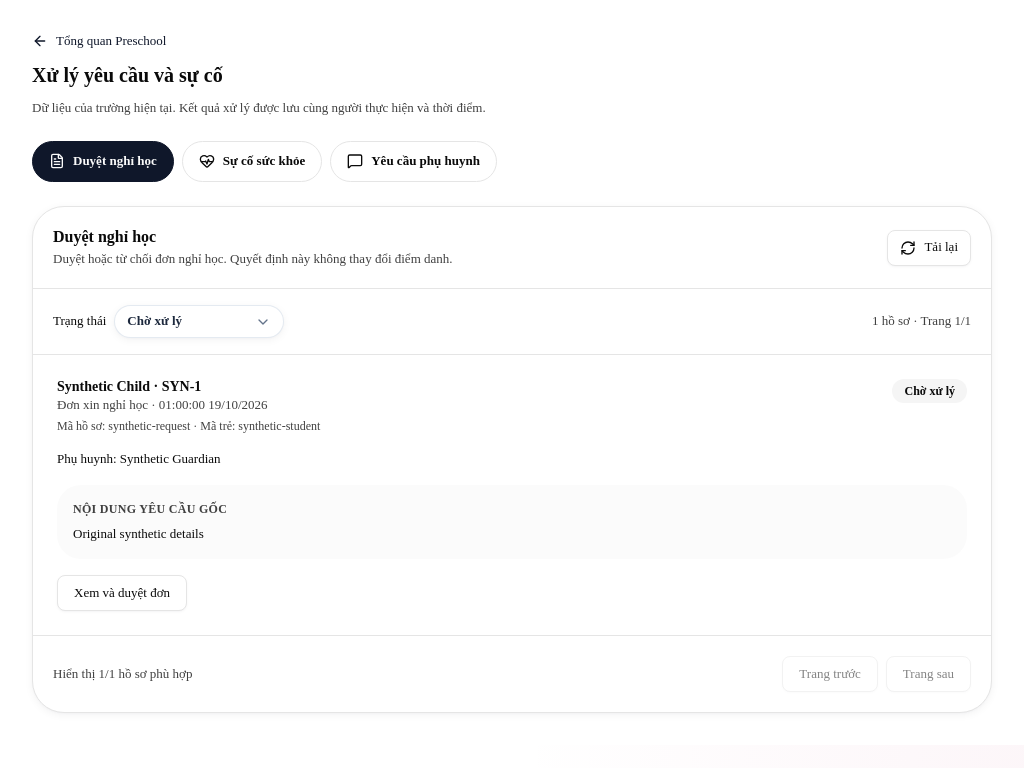
it: does not report success for a failed readback or erase drafts
The width and height of the screenshot is (1024, 768).
Click the button "Xem và duyệt đơn". click: (122, 594)
box: [57, 576, 187, 612]
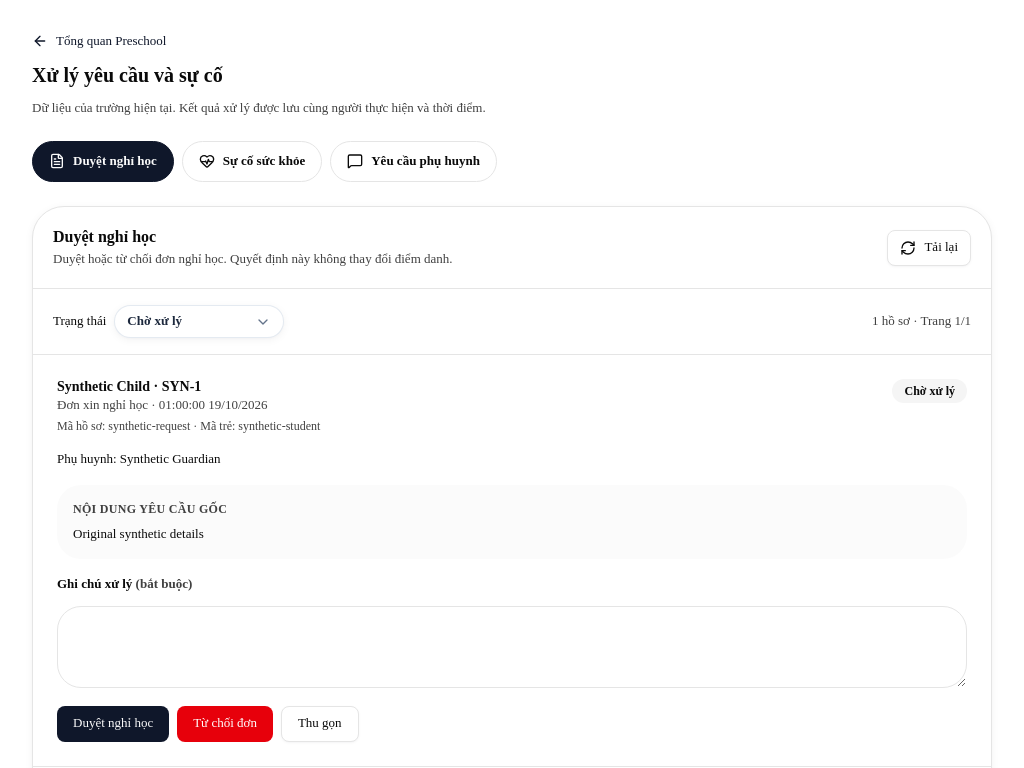
Type "Keep draft" into the text box. click: (512, 647)
box: [57, 606, 967, 688]
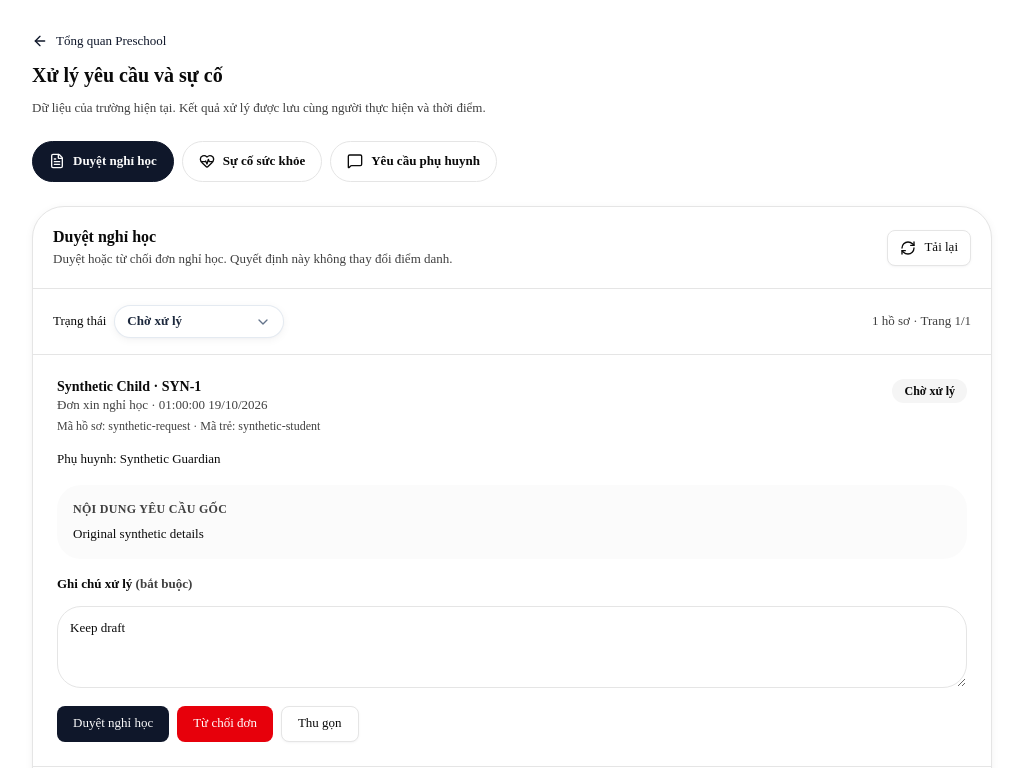
Click the button "Từ chối đơn". click: (225, 724)
box: [177, 706, 273, 742]
(page scrolled)
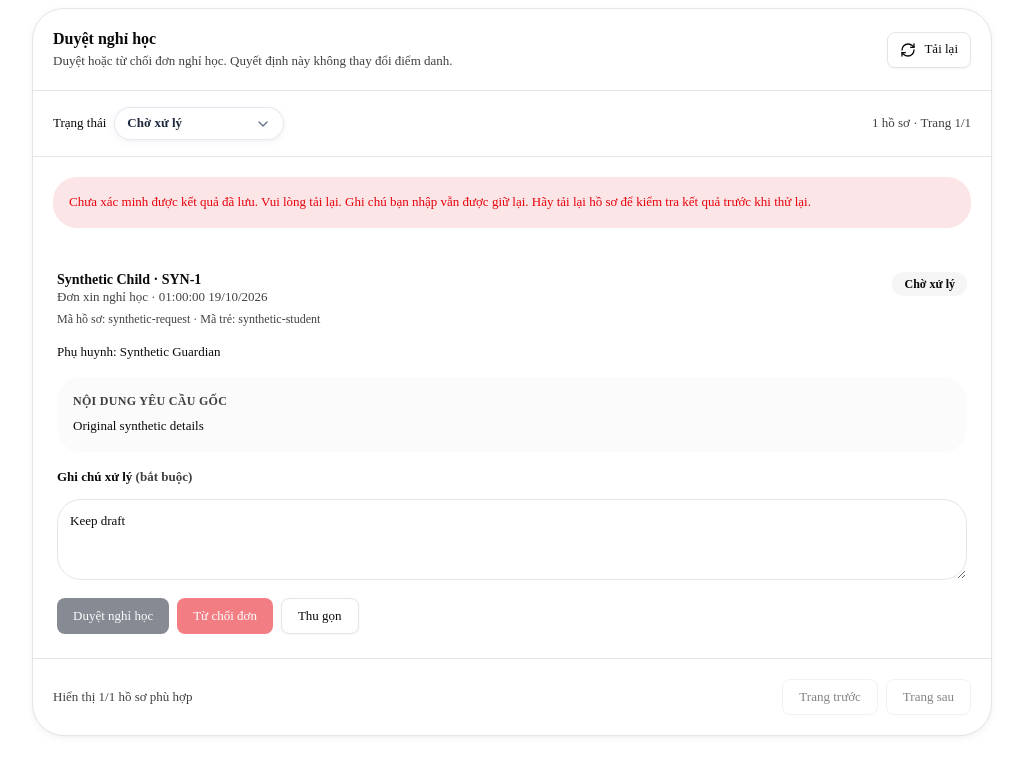
expect the message shows "Chưa xác minh": met, box [69, 194, 342, 209]
